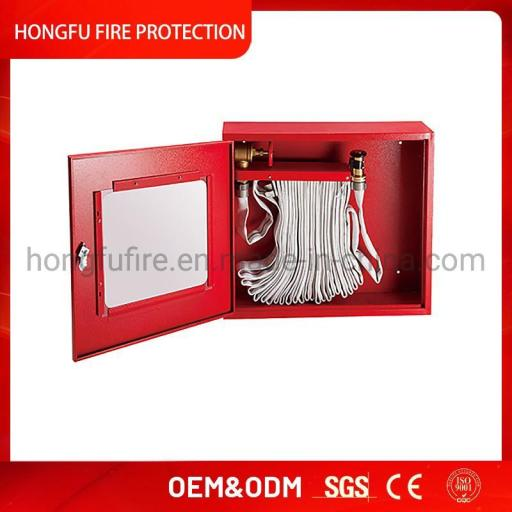fire_hose: (64, 116, 439, 358)
